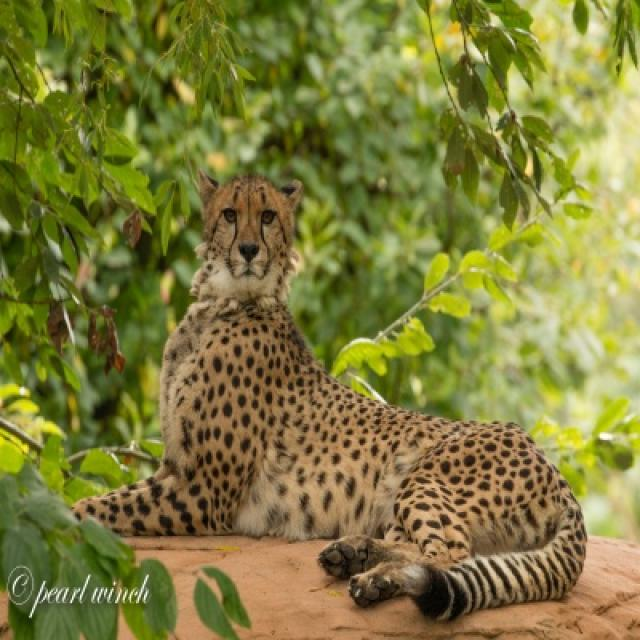Cheetah: (70, 174, 590, 626)
